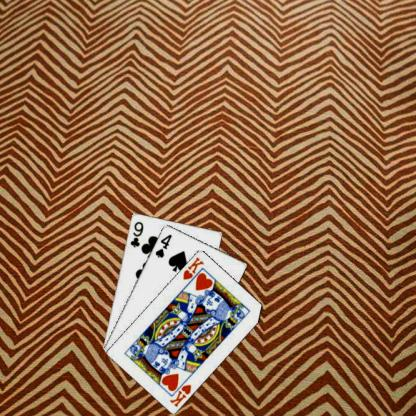4S: (152, 232, 173, 258)
9C: (128, 218, 144, 248)
KH: (180, 254, 205, 281), (167, 382, 192, 408)
